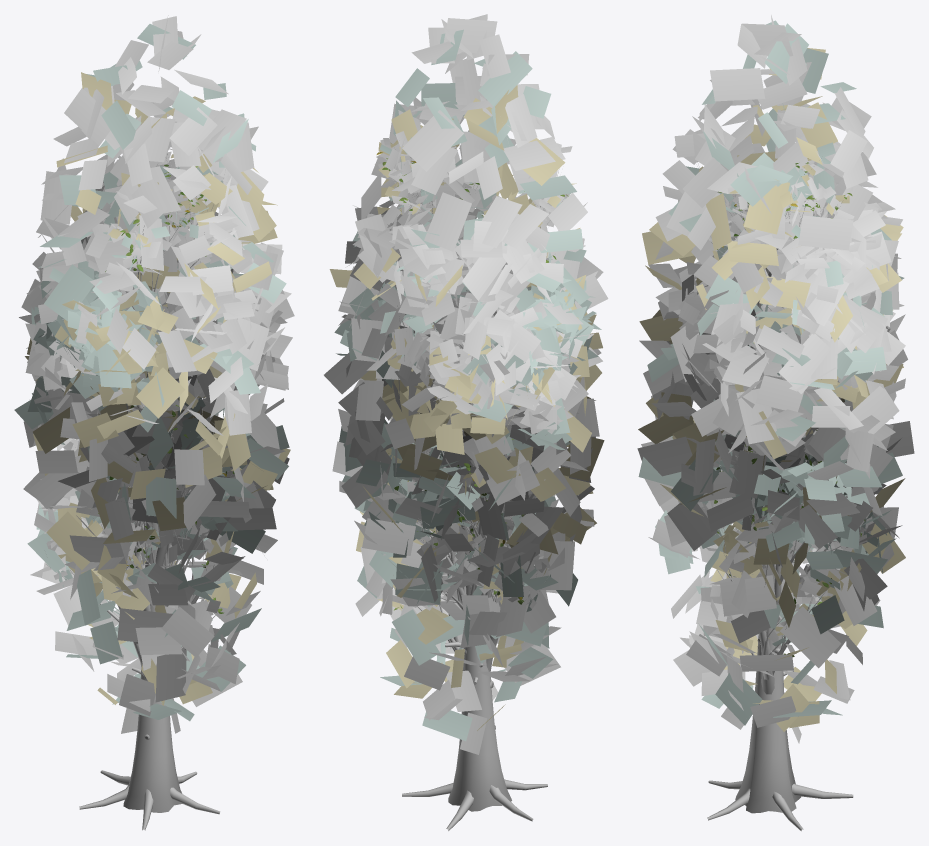
The model's file is tree-poplar-ultra.lod0.glb.
3 renders of one model, left to right at view 1: azimuth 30°, elevation 25°; view 2: azimuth 150°, elevation 25°; view 3: azimuth 270°, elevation 25°, orthographic.
Visible parts, largest first — view 1: tree-poplar-ultra; view 2: tree-poplar-ultra; view 3: tree-poplar-ultra.
Part boxes in pixels (left/top/right/bottom): tree-poplar-ultra: left=14, top=15, right=294, bottom=830; tree-poplar-ultra: left=324, top=14, right=608, bottom=830; tree-poplar-ultra: left=637, top=15, right=914, bottom=831.
Size of the model in its own units: 1.64 by 4.92 by 1.57.
